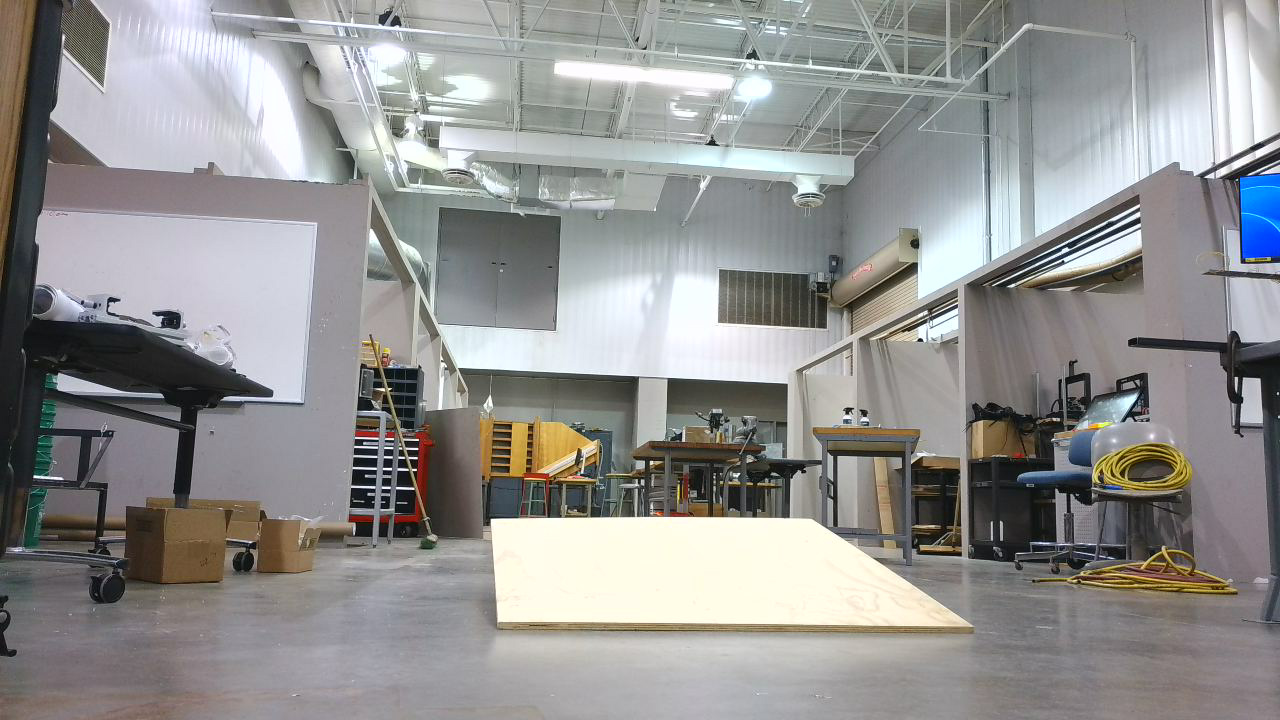ramp: (492, 518, 984, 642)
